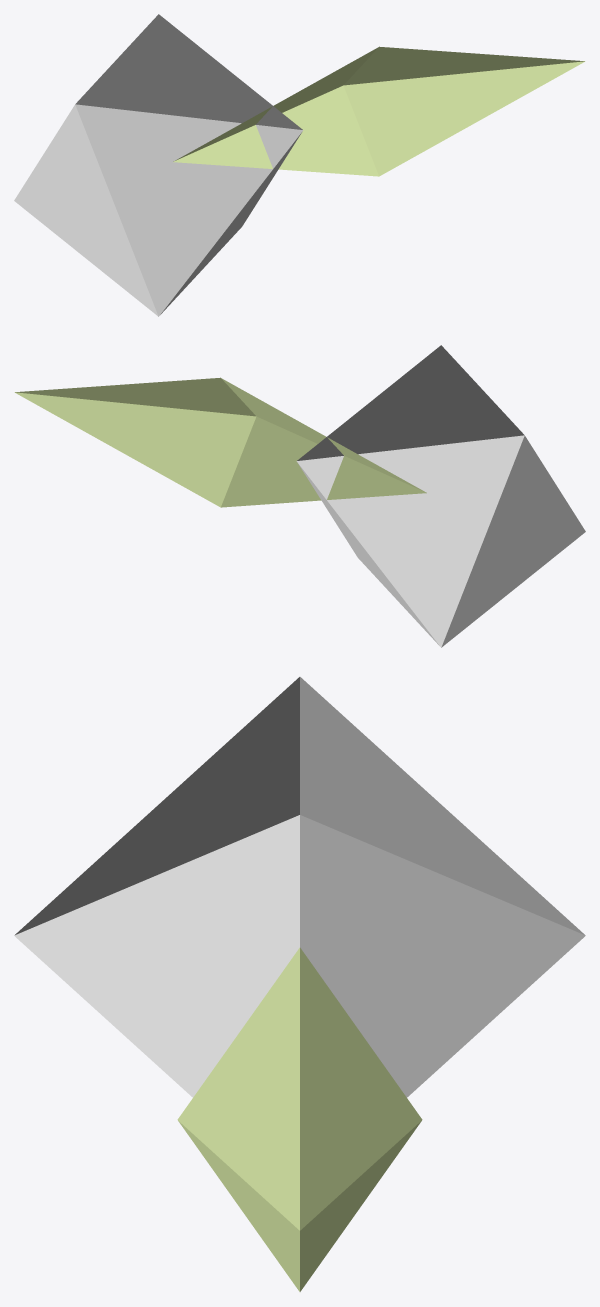
File: pea_muzzle_flash.glb
3 views of the same model, one above another, from view 1: azimuth 30°, elevation 25°; view 2: azimuth 150°, elevation 25°; view 3: azimuth 270°, elevation 25° (orthographic). The views are drawn at different scales.
Parts seen in each view (by area): view 1: pea_muzzle_flash; view 2: pea_muzzle_flash; view 3: pea_muzzle_flash.
Boxes of the visible parts, x1,y1,x2,y2 form: pea_muzzle_flash: (14,14,585,316); pea_muzzle_flash: (14,345,585,647); pea_muzzle_flash: (14,677,585,1291).
Size of the model in its own units: 0.83 by 0.42 by 0.42.
